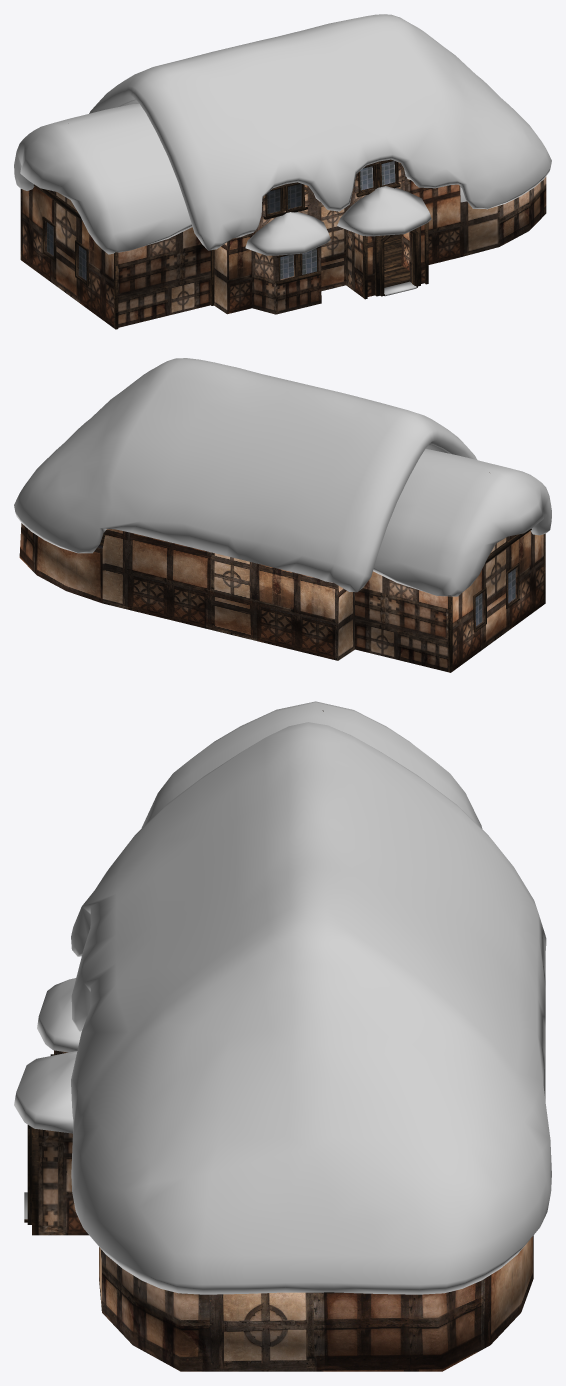
Rendered from VillageBuildingF.dae.
The picture shows the model from 3 angles, top to bottom: view 1: azimuth 30°, elevation 25°; view 2: azimuth 150°, elevation 25°; view 3: azimuth 270°, elevation 25°; orthographic projection. The views are drawn at different scales.
Parts seen in each view (by area): view 1: meshU3D; view 2: meshU3D; view 3: meshU3D.
Boxes of the visible parts, x1=… form: meshU3D: x1=14, y1=14, x2=551, y2=329; meshU3D: x1=14, y1=358, x2=551, y2=672; meshU3D: x1=14, y1=701, x2=551, y2=1371.
Bounding box in the file's own units: 568 × 227 × 312.
